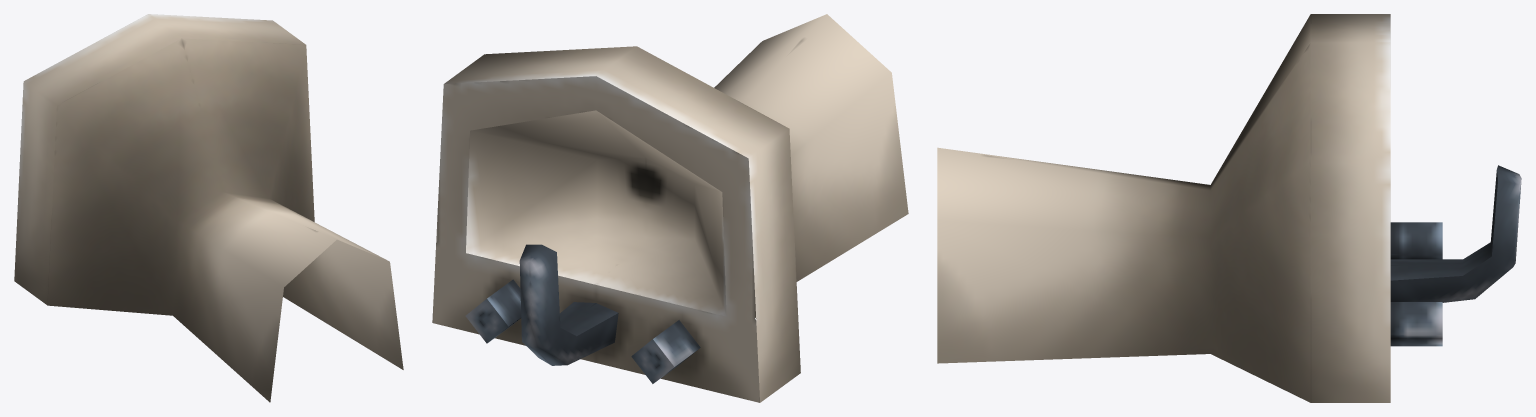
Rendered from props_waterbasin.fbx.
The picture shows the model from 3 angles, left to right: view 1: azimuth 30°, elevation 25°; view 2: azimuth 150°, elevation 25°; view 3: azimuth 270°, elevation 25°; orthographic projection. The views are drawn at different scales.
Visible parts, largest first — view 1: washbasin; view 2: washbasin; view 3: washbasin.
Boxes of the visible parts, x1=… form: washbasin: x1=14, y1=14, x2=403, y2=402; washbasin: x1=432, y1=14, x2=908, y2=402; washbasin: x1=937, y1=14, x2=1521, y2=402.
Size of the model in its own units: 0.5963 by 0.4987 by 0.9374.
Materials: 1 (1 with a texture image).
